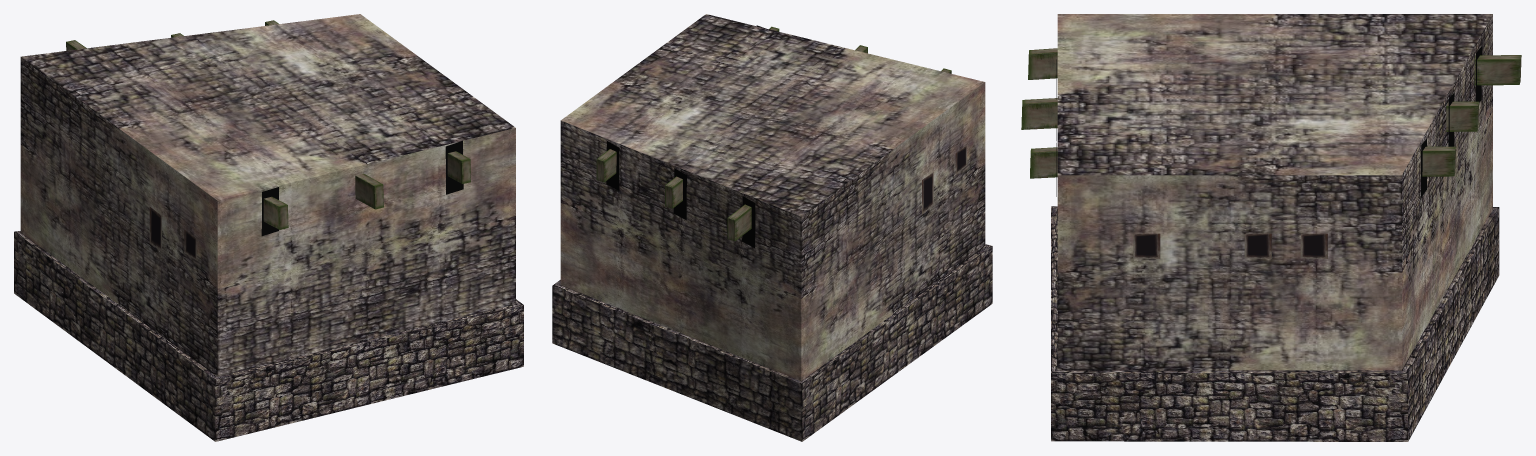
File: fort_eitc_annex_1.fbx
3 renders of one model, left to right at view 1: azimuth 30°, elevation 25°; view 2: azimuth 150°, elevation 25°; view 3: azimuth 270°, elevation 25°, orthographic. The views are drawn at different scales.
Parts seen in each view (by area): view 1: shell, beam_8, beam_9, beam_7; view 2: shell, beam_3, beam_5, beam_4; view 3: shell, beam_3, beam_8, beam_5, beam_4, beam_9, beam_7, window31, window30, window29.
Part boxes in pixels (x1,y1,x2,y2): shell: (14, 14, 523, 441); beam_8: (355, 173, 383, 209); beam_9: (263, 196, 288, 229); beam_7: (447, 151, 470, 183); shell: (552, 14, 992, 441); beam_3: (727, 204, 751, 241); beam_5: (596, 149, 616, 182); beam_4: (665, 176, 682, 208); shell: (1051, 14, 1499, 441); beam_3: (1474, 55, 1521, 85); beam_8: (1021, 98, 1057, 129); beam_5: (1420, 146, 1456, 176); beam_4: (1446, 101, 1479, 131); beam_9: (1028, 48, 1057, 79); beam_7: (1030, 147, 1057, 178); window31: (1133, 233, 1160, 258); window30: (1244, 233, 1271, 258); window29: (1300, 233, 1327, 258).
Size of the model in its own units: 3132 by 2307 by 3959.
4 materials, 4 textured.
